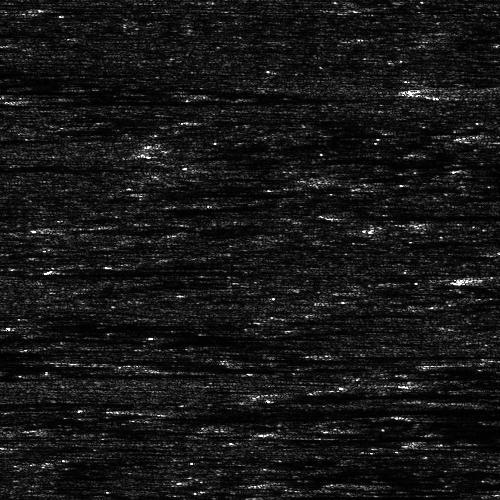object: (398, 269, 500, 286), (224, 386, 349, 399), (104, 404, 219, 415), (30, 494, 217, 500), (420, 243, 500, 256), (0, 93, 63, 108), (446, 128, 500, 143), (390, 378, 453, 389), (228, 491, 301, 500), (92, 361, 155, 370), (314, 212, 367, 221), (298, 353, 361, 358), (423, 495, 476, 500), (141, 414, 182, 419), (454, 85, 465, 94)
shadow: (11, 93, 265, 108), (162, 404, 500, 415), (287, 386, 500, 399), (124, 494, 500, 500), (265, 491, 500, 500), (162, 414, 500, 419), (124, 361, 303, 370), (340, 212, 500, 221), (0, 161, 147, 170), (329, 353, 500, 358), (422, 378, 486, 389), (0, 98, 41, 105), (449, 495, 500, 500)
